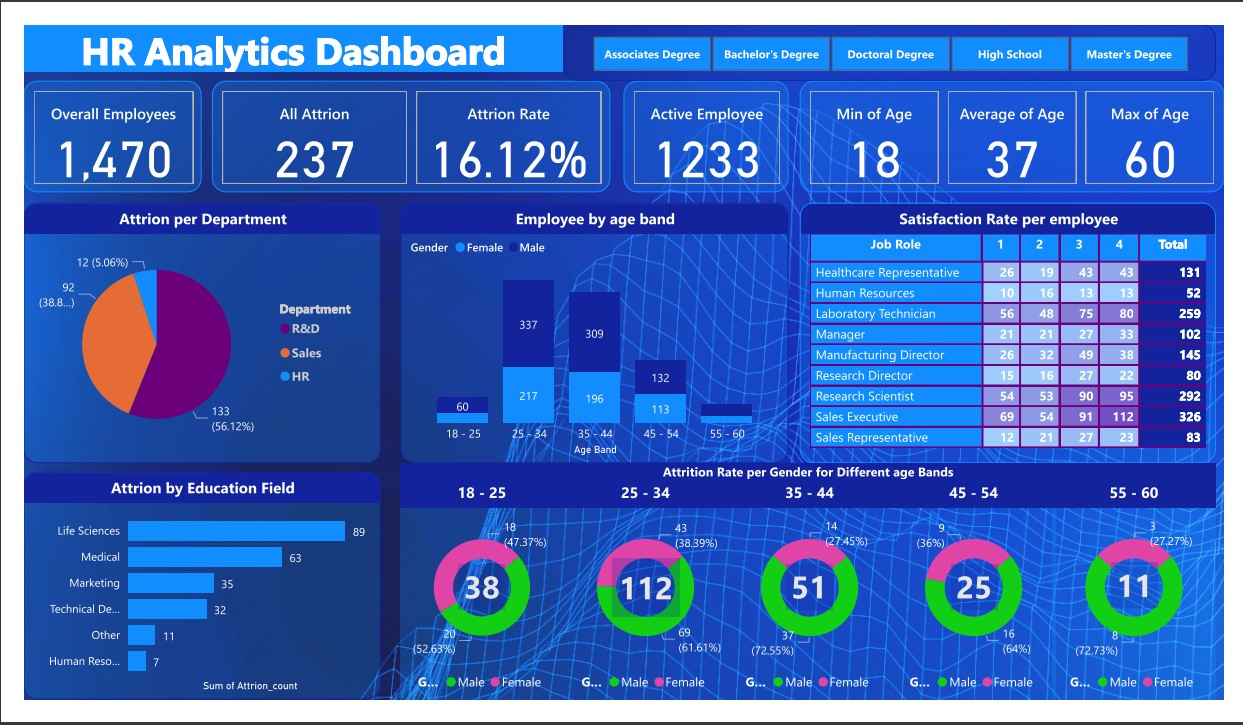

Layout of this report page (visuals, bound fields, positions):
{"tool":"tableau","page":{"name":"Dashboard 1","canvas":[1669,861],"ordinal":0},"visuals":[{"type":"image","param":"Image/HR background.jpg","box":[8,8,1653,845]},{"type":"text","box":[100,18,859,59]},{"type":"filter","title":"Department per Attrition","param":"[federated.0pwhxd303h3sfi1ah9gx11fwq4bj].[none:Education:nk]","box":[952,21,620,62]},{"type":"worksheet","title":"Attrtion by gender","mark":"Automatic","rows":["Gender"],"cols":["Calculation_881298155774873600","Calculation_881298155774873600"],"box":[1375,94,195,127]},{"type":"worksheet","title":"KPIs","mark":"Automatic","box":[97,95,1265,129]},{"type":"worksheet","title":"Employee per age","mark":"Automatic","rows":["Employee Count"],"cols":["Age (bin)"],"box":[540,234,522,346]},{"type":"worksheet","title":"Job Satisfaction Rating","mark":"Square","rows":["Job Role"],"cols":["Job Satisfaction"],"box":[1078,235,491,346]},{"type":"worksheet","title":"Department per Attrition","mark":"Pie","box":[98,237,431,346]},{"type":"parameter","param":"[Parameters].[Parameter 1]","box":[832,246,221,40]},{"type":"legend","title":"Department per Attrition","param":"[federated.0pwhxd303h3sfi1ah9gx11fwq4bj].[none:Department:nk]","box":[103,482,93,85]},{"type":"worksheet","title":"Eduction Per Attrtion","mark":"Automatic","rows":["Education Field"],"cols":["Calculation_881298155774873600"],"box":[97,595,412,249]},{"type":"worksheet","title":"Attrition Rate per Gender for different ages","mark":"Pie","rows":["Calculation_881298155884138501","Calculation_881298155884138501"],"cols":["CF_age band"],"box":[519,595,1053,248]},{"type":"legend","title":"Attrition Rate per Gender for different ages","param":"[federated.0pwhxd303h3sfi1ah9gx11fwq4bj].[none:Gender:nk]","box":[1205,597,295,45]}]}

Visuals, with their boxes on the page's 1669x861 design canvas (x1, y1, x2, y2). These are canvas units, not pixel positions in the 1243x725 screenshot, which may show the page scaled, cropped or inside an application window:
image: [x1=8, y1=8, x2=1661, y2=853]
text: [x1=100, y1=18, x2=959, y2=77]
"Department per Attrition" filter: [x1=952, y1=21, x2=1572, y2=83]
"Attrtion by gender" worksheet: [x1=1375, y1=94, x2=1570, y2=221]
"KPIs" worksheet: [x1=97, y1=95, x2=1362, y2=224]
"Employee per age" worksheet: [x1=540, y1=234, x2=1062, y2=580]
"Job Satisfaction Rating" worksheet (Square marks): [x1=1078, y1=235, x2=1569, y2=581]
"Department per Attrition" worksheet (Pie marks): [x1=98, y1=237, x2=529, y2=583]
parameter: [x1=832, y1=246, x2=1053, y2=286]
"Department per Attrition" legend: [x1=103, y1=482, x2=196, y2=567]
"Eduction Per Attrtion" worksheet: [x1=97, y1=595, x2=509, y2=844]
"Attrition Rate per Gender for different ages" worksheet (Pie marks): [x1=519, y1=595, x2=1572, y2=843]
"Attrition Rate per Gender for different ages" legend: [x1=1205, y1=597, x2=1500, y2=642]
